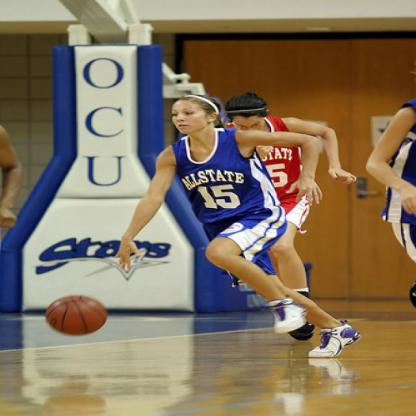basketball: (45, 294, 107, 335)
